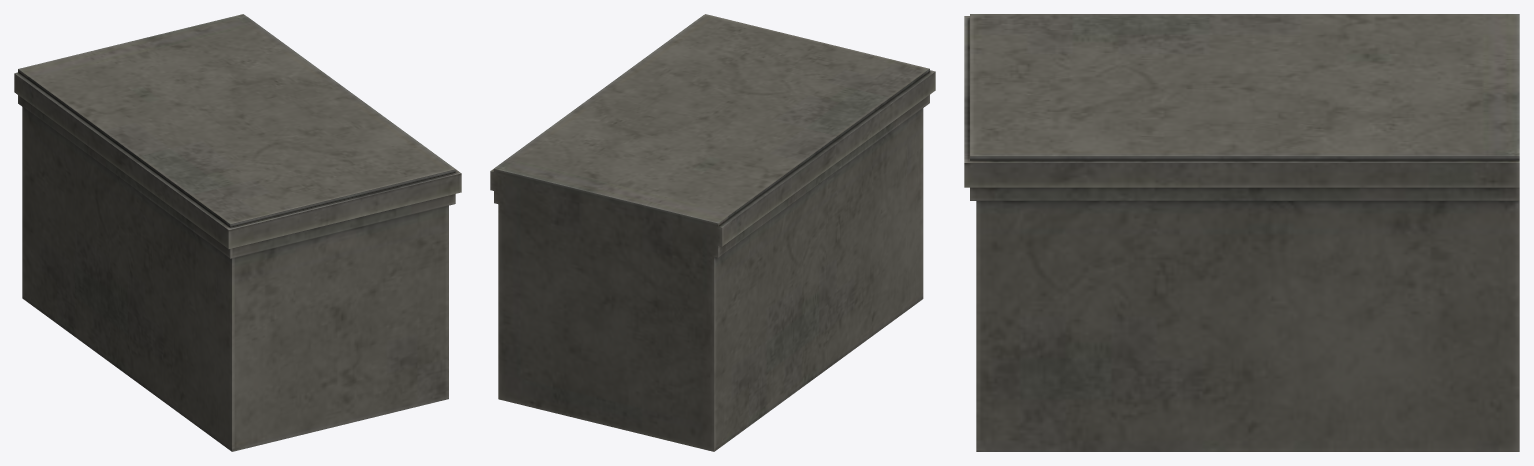
File: SM_Block2.fbx
3 views of the same model, side by side, from view 1: azimuth 30°, elevation 25°; view 2: azimuth 150°, elevation 25°; view 3: azimuth 270°, elevation 25° (orthographic). The views are drawn at different scales.
Visible parts, largest first — view 1: SM_Block2; view 2: SM_Block2; view 3: SM_Block2.
Part boxes in pixels (bbox=[...]): SM_Block2: bbox=[14, 14, 461, 451]; SM_Block2: bbox=[490, 14, 935, 451]; SM_Block2: bbox=[964, 14, 1519, 451].
Size of the model in its own units: 215 by 342 by 203.
